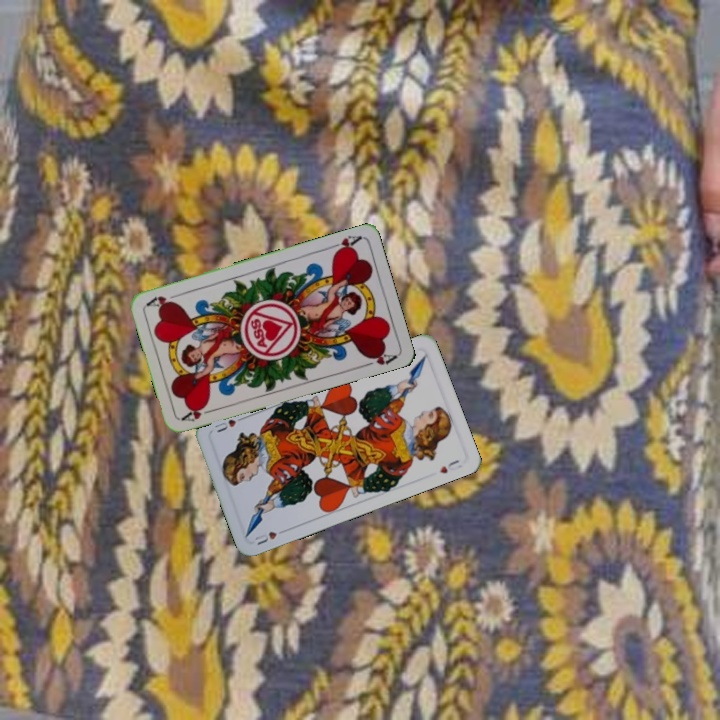HA: (324, 231, 364, 257), (178, 400, 218, 424)
HU: (250, 525, 289, 548)
